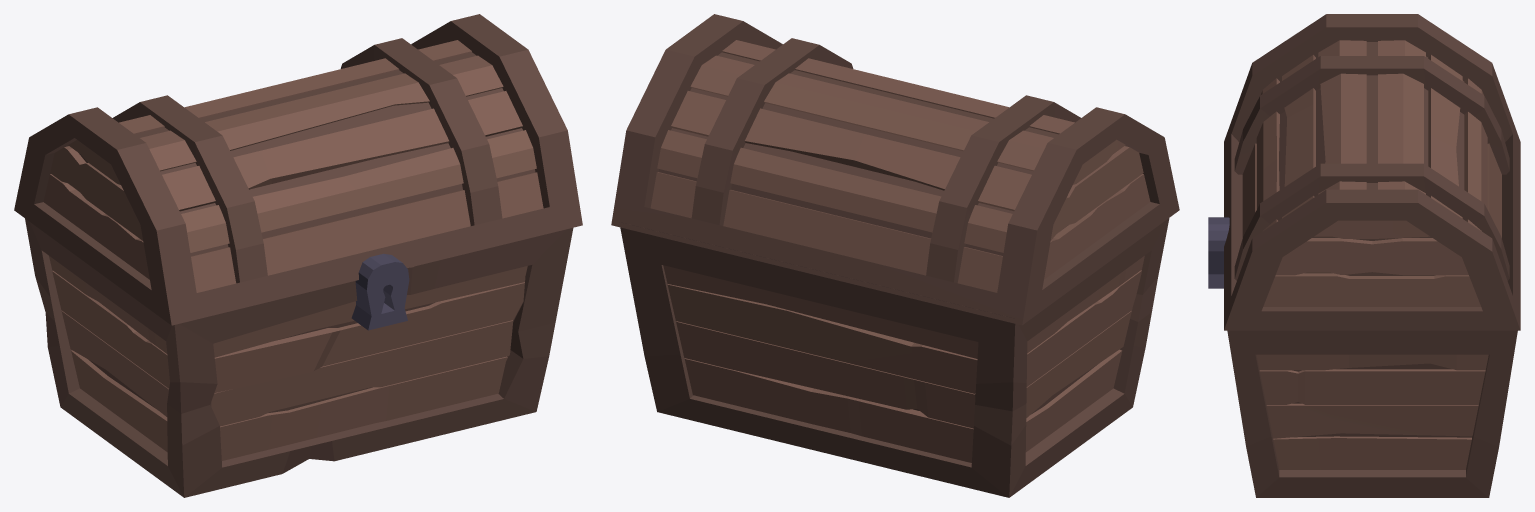
Rendered from Chest.gltf.
3 views of the same model, side by side, from view 1: azimuth 30°, elevation 25°; view 2: azimuth 150°, elevation 25°; view 3: azimuth 270°, elevation 25° (orthographic). The views are drawn at different scales.
Visible parts, largest first — view 1: Chest_Top, Chest_Base; view 2: Chest_Top, Chest_Base; view 3: Chest_Top, Chest_Base.
Boxes of the visible parts, left/top/right/bottom form: Chest_Top: left=14, top=14, right=582, bottom=325; Chest_Base: left=25, top=218, right=573, bottom=497; Chest_Top: left=611, top=14, right=1179, bottom=325; Chest_Base: left=620, top=218, right=1169, bottom=497; Chest_Top: left=1224, top=14, right=1520, bottom=330; Chest_Base: left=1208, top=217, right=1517, bottom=497.
Bounding box in the file's own units: 1.18 × 0.8985 × 0.8238.
